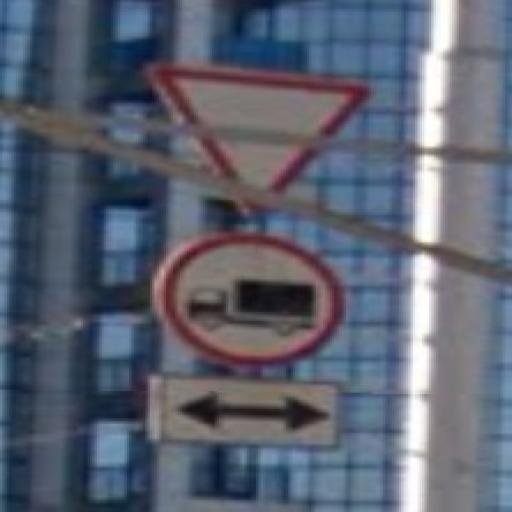traffic_sign: (144, 64, 370, 225), (163, 236, 350, 369)
